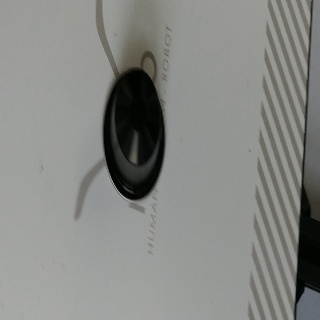capsule_10: (102, 65, 166, 202)
